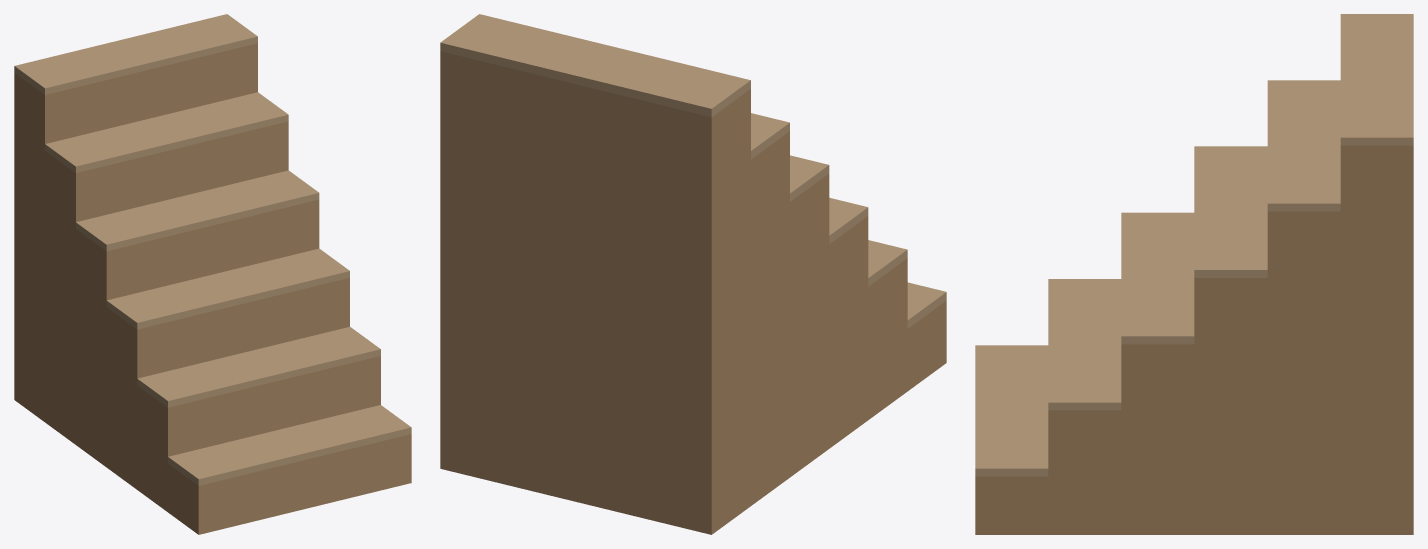
File: kit_stairs.glb
The picture shows the model from 3 angles, left to right: view 1: azimuth 30°, elevation 25°; view 2: azimuth 150°, elevation 25°; view 3: azimuth 270°, elevation 25°; orthographic projection. The views are drawn at different scales.
Parts seen in each view (by area): view 1: riser_5, riser_4, riser_3, riser_2, riser_1, riser_0, tread_1, tread_3, tread_5, tread_4, tread_0, tread_2; view 2: riser_5, riser_4, tread_5, riser_3, riser_2, riser_1, riser_0, tread_0, tread_1, tread_2, tread_3, tread_4; view 3: riser_5, riser_4, riser_3, riser_2, tread_2, tread_0, tread_3, tread_4, tread_5, tread_1, riser_1, riser_0.
Boxes of the visible parts, x1,y1,x2,y2 form: riser_5: (14,43,257,421); riser_4: (45,121,288,444); riser_3: (76,199,319,467); riser_2: (106,278,349,489); riser_1: (137,356,380,511); riser_0: (168,434,411,534); tread_1: (137,327,380,407); tread_3: (76,170,319,251); tread_5: (14,14,257,94); tread_4: (45,92,288,172); tread_0: (168,405,411,485); tread_2: (106,248,349,329); riser_5: (440,51,750,534); riser_4: (751,131,789,505); tread_5: (440,14,750,117); riser_3: (790,173,829,477); riser_2: (829,216,868,448); riser_1: (868,258,907,419); riser_0: (907,301,946,390); tread_0: (907,282,946,328); tread_1: (868,240,907,286); tread_2: (829,197,868,243); tread_3: (790,155,829,201); tread_4: (751,113,789,159); riser_5: (1340,145,1413,534); riser_4: (1267,211,1340,534); riser_3: (1194,278,1267,534); riser_2: (1121,344,1194,534); tread_2: (1121,212,1194,344); tread_0: (975,345,1048,476); tread_3: (1194,146,1267,277); tread_4: (1267,80,1340,211); tread_5: (1340,14,1413,145); tread_1: (1048,279,1121,410); riser_1: (1048,410,1121,534); riser_0: (975,476,1048,534).
Size of the model in its own units: 1 by 1.5 by 1.5.
